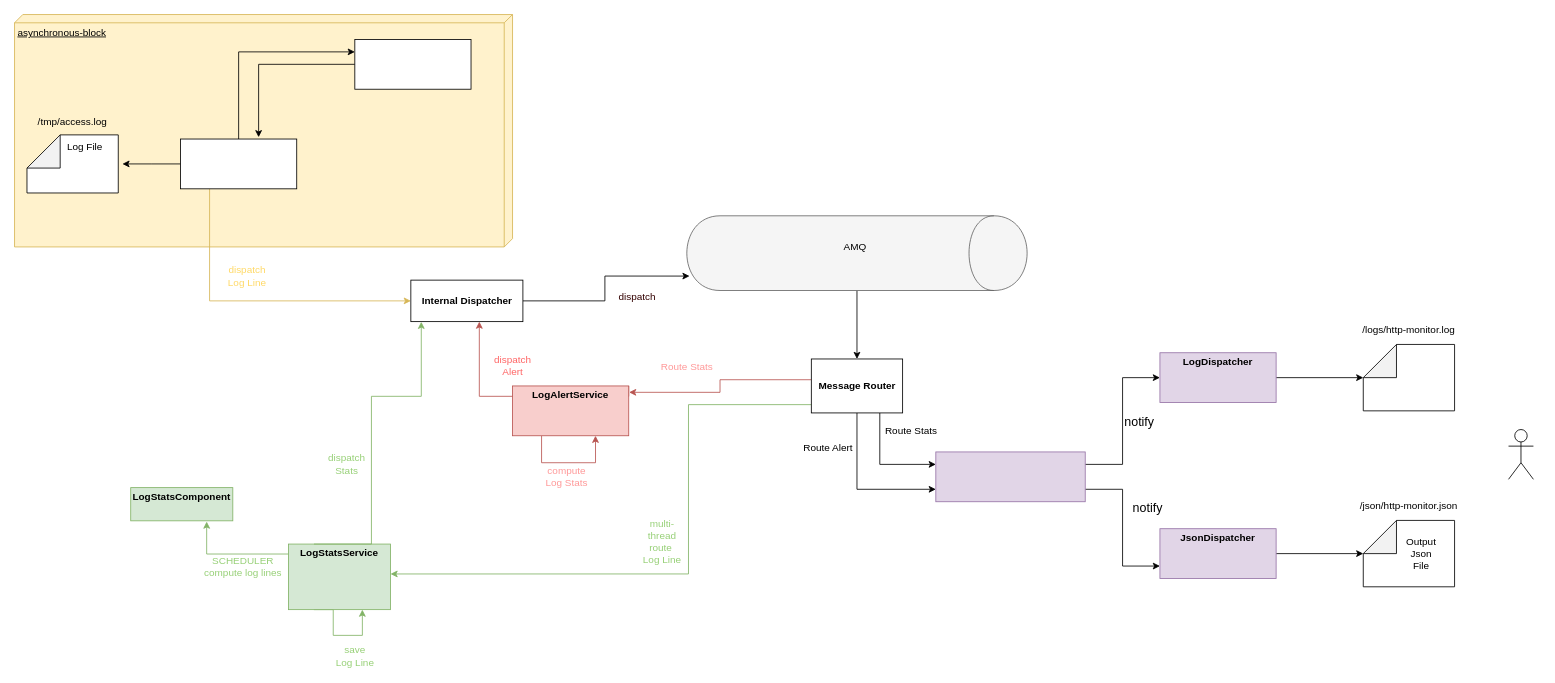
The diagram is 1555 pixels wide and 683 high, and some of its shapes have lost their labels. Here are the shapes that lost their labels. From the top down, the box of each, then its label:
(354, 39, 471, 89): LogLineParser
(180, 138, 297, 189): TailerListener
(1362, 344, 1455, 411): Output Log File
(1508, 429, 1533, 479): end-user
(935, 451, 1085, 502): ExternalDispatcherObserver
